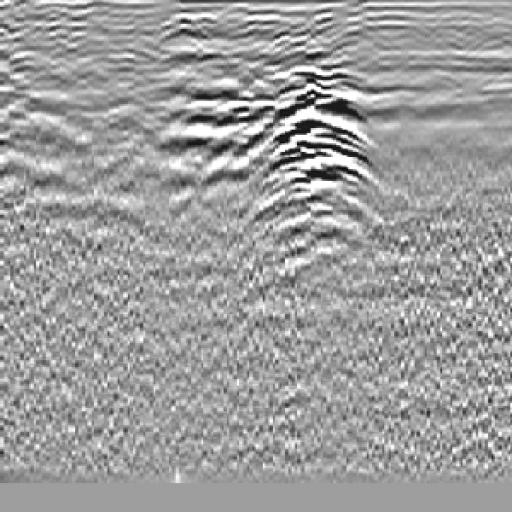metalic: (212, 29, 416, 305)
